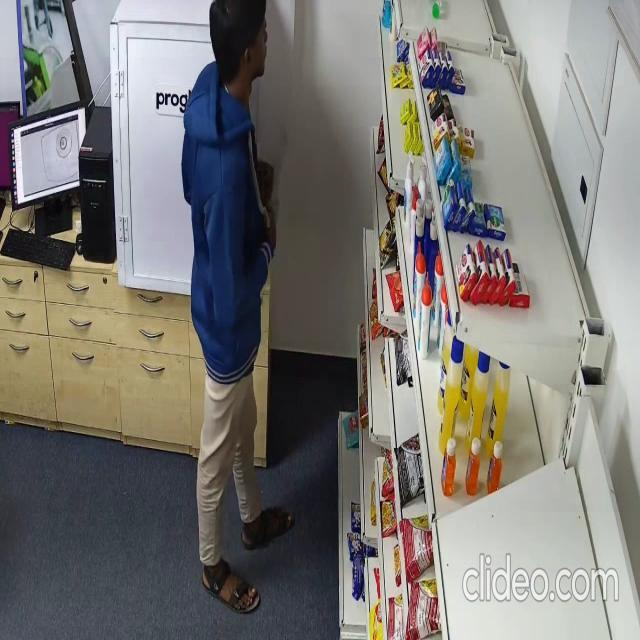Shoplifting: (180, 2, 292, 600)
